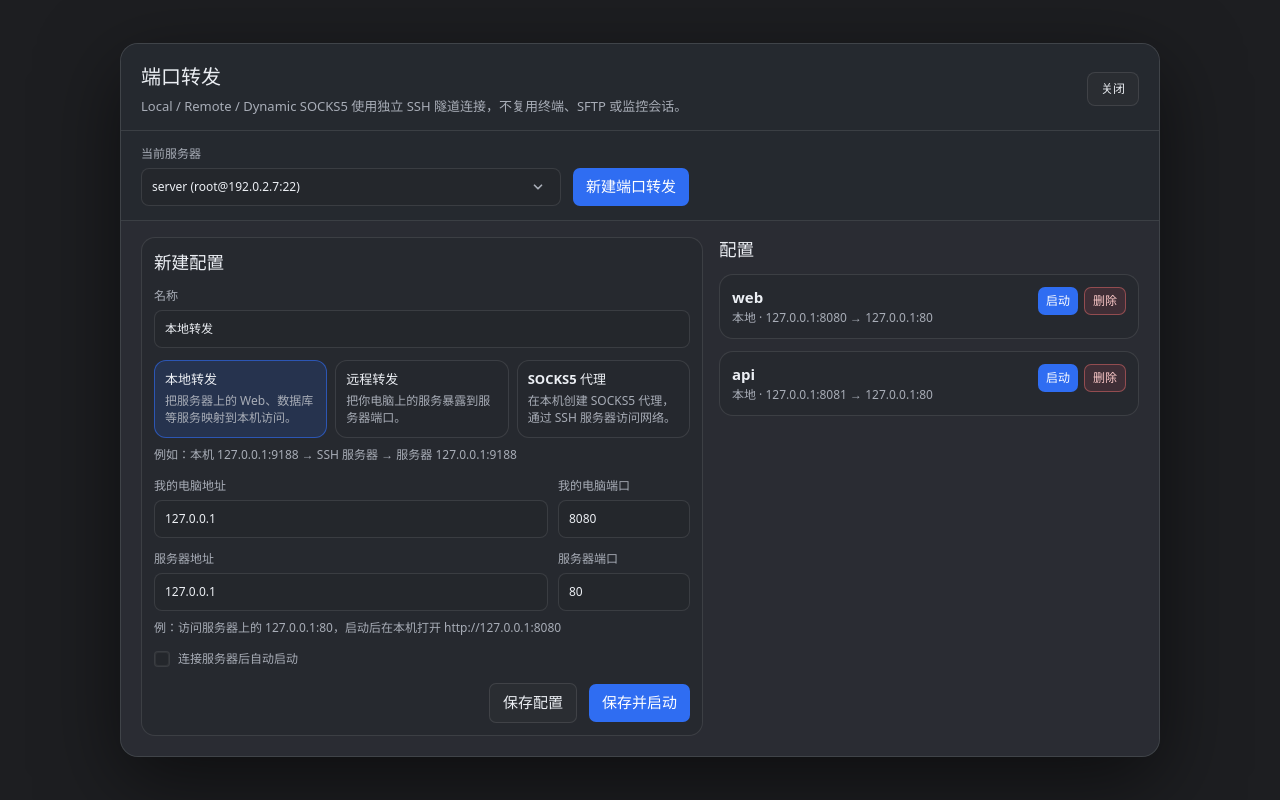
TunnelManagerDialog › saves current dirty edit before switching when user chooses save
Click the button with test id "tunnel-profile-card" that starts with "web". click: (929, 307)
box: [719, 274, 1139, 339]
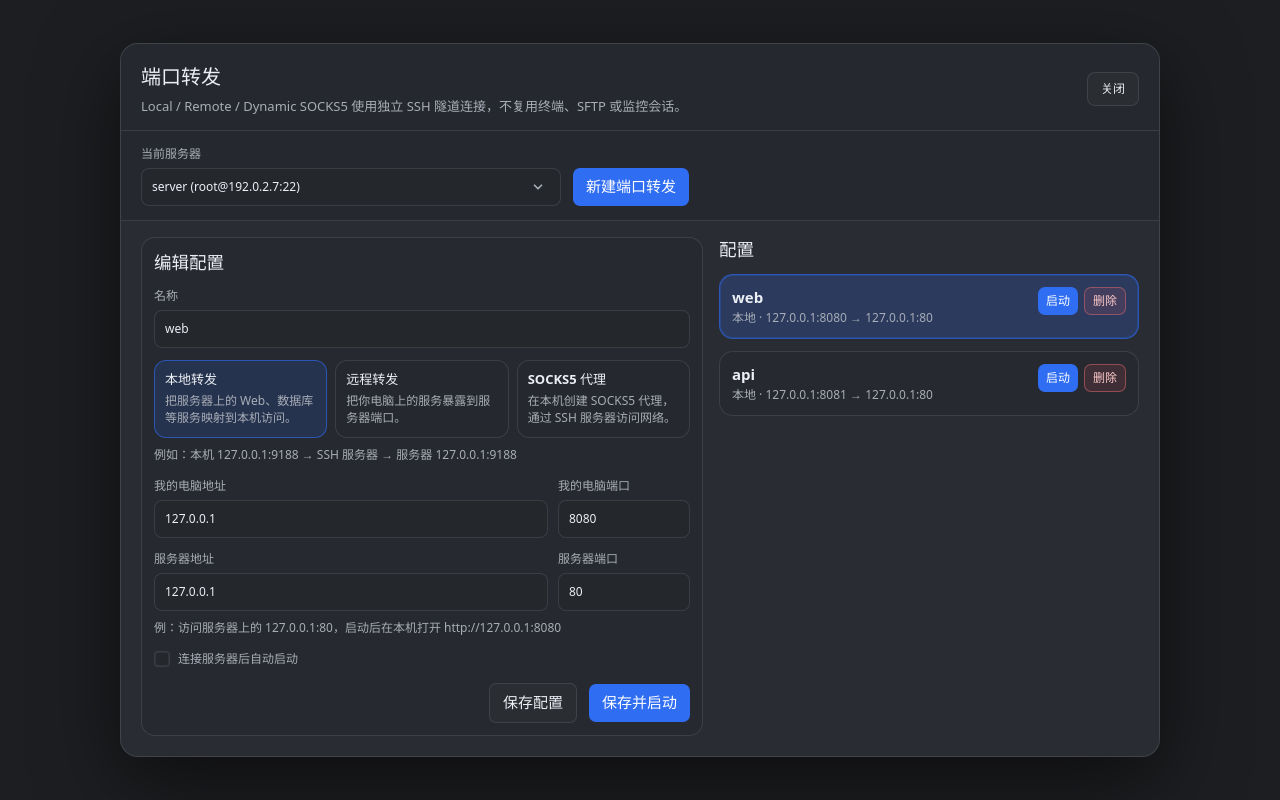
Replace the text in the field with test id "tunnel-name" with "web changed". click: (422, 329)
box: [154, 310, 690, 348]
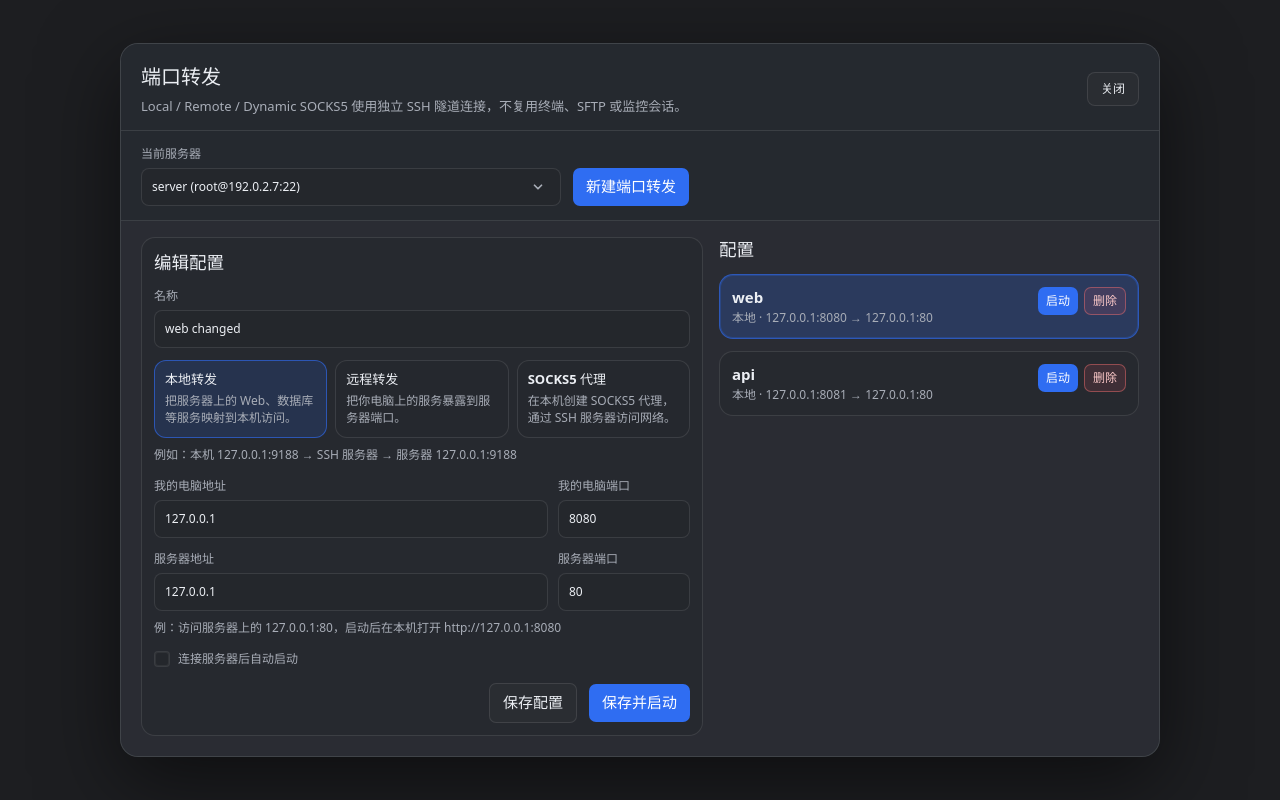
Click the button with test id "tunnel-profile-card" that starts with "api". click: (929, 384)
box: [719, 351, 1139, 416]
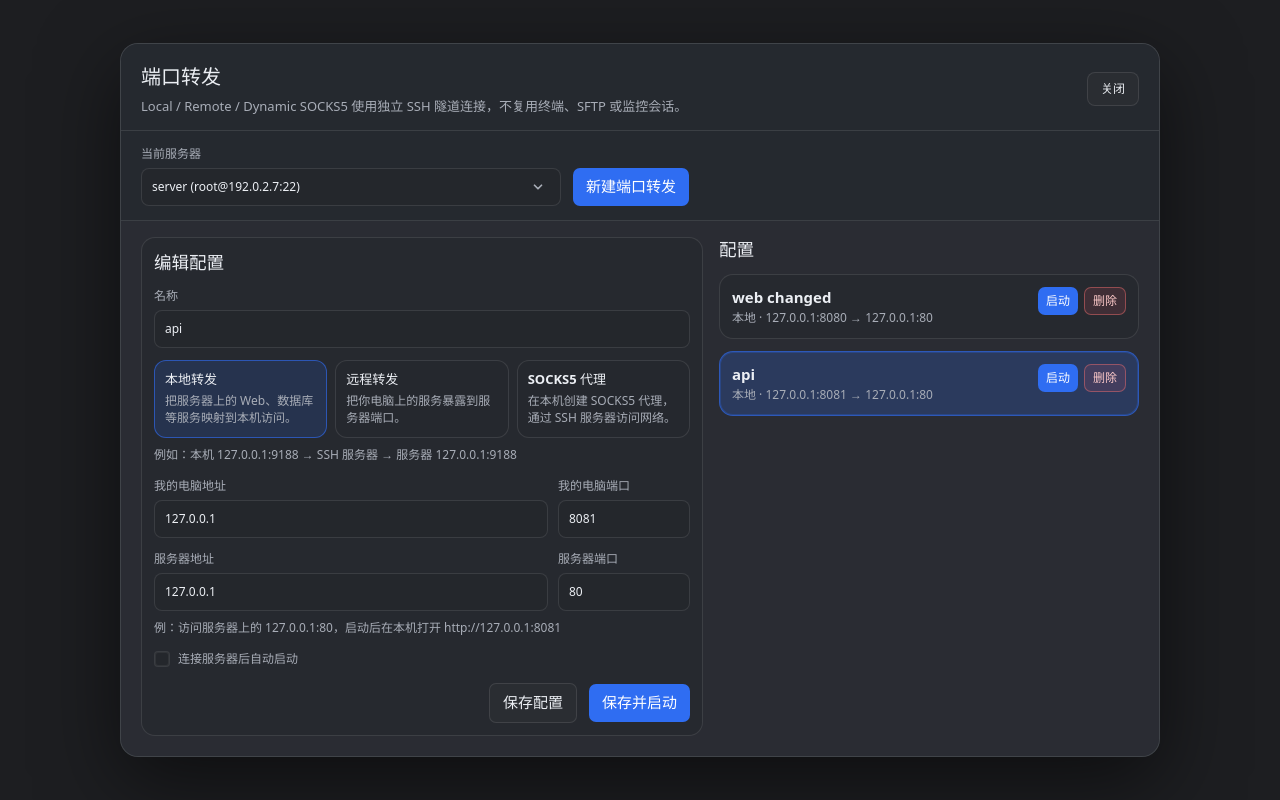
Now the field with test id "tunnel-name" holds "api", box [154, 310, 690, 348]
